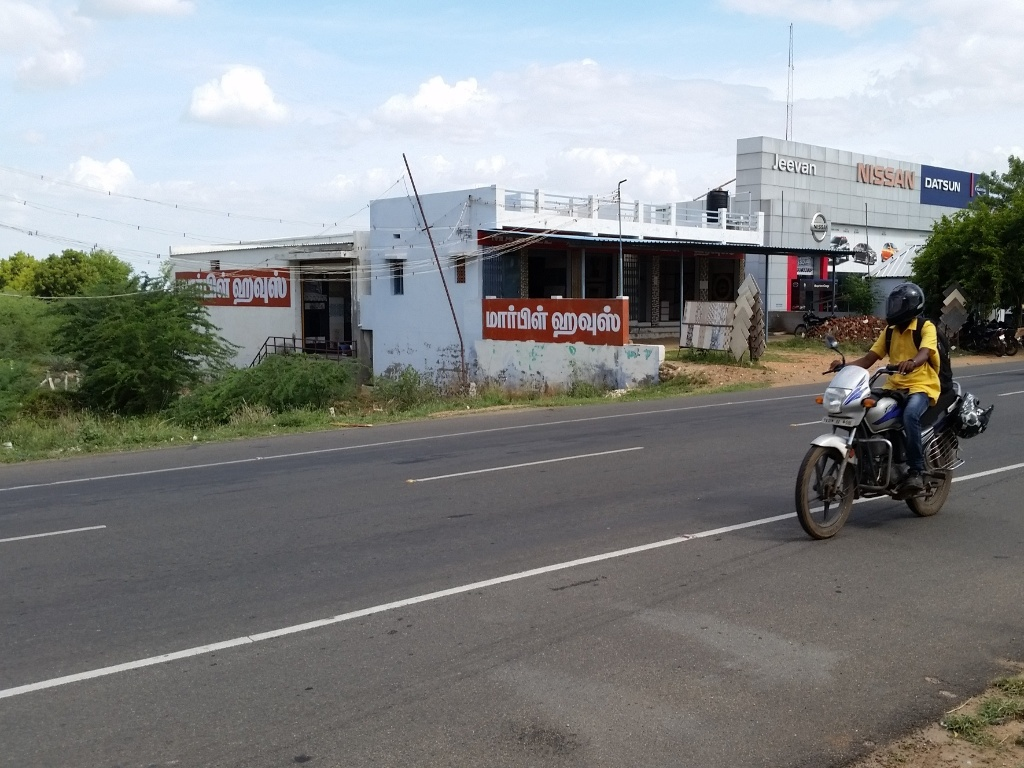biker: (776, 237, 1002, 545)
helmet: (880, 273, 937, 341)
